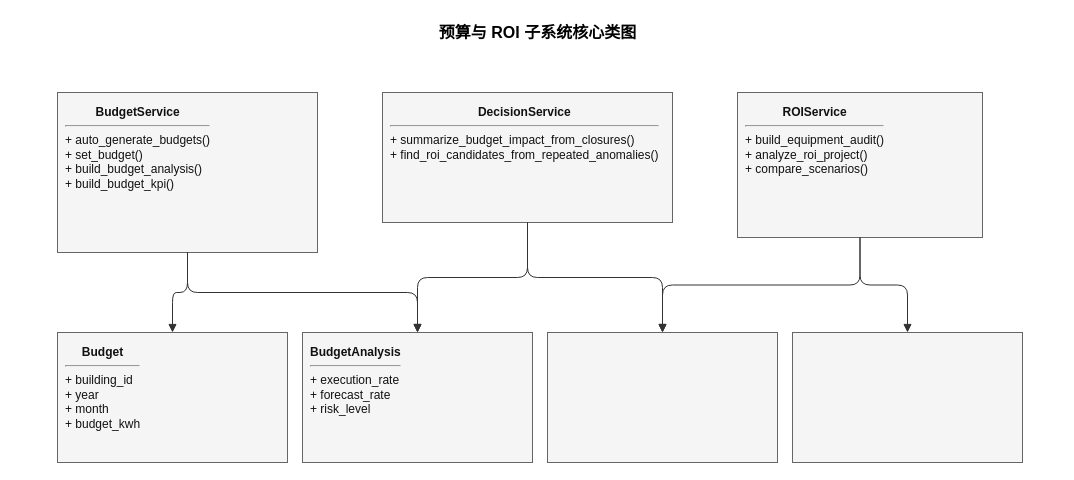
Some shapes in this 1074 by 480 pixel diagram are drawn without their labels. The shapes that lost their labels are listed below. From the top down, each one's centre as x and y in pixels, then its label:
At point (662, 397): "EquipmentAudit + equipment_type + sample_count + current_cop".
At point (907, 397): "ROIProject + investment + npv + irr + eaa + payback".
